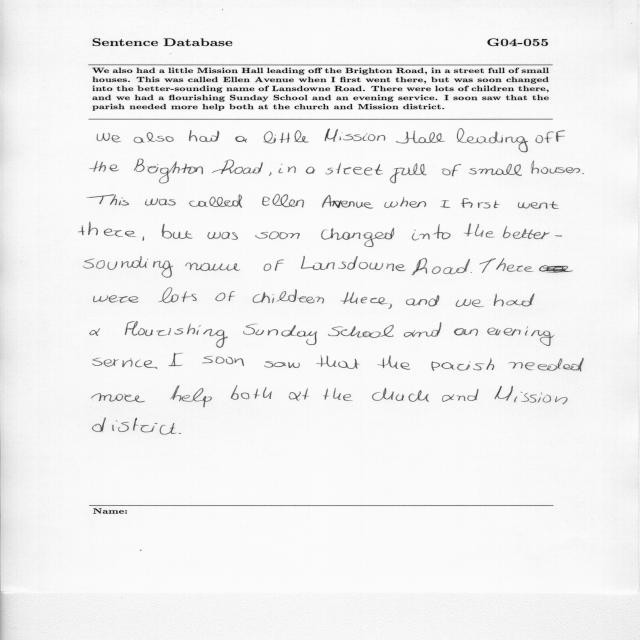word: (125, 321, 228, 348), (84, 256, 173, 278), (134, 159, 203, 184), (457, 129, 528, 153), (301, 256, 406, 271), (243, 324, 317, 345), (93, 418, 177, 435), (480, 258, 573, 273), (321, 228, 394, 247), (487, 326, 554, 346), (495, 386, 568, 404), (252, 289, 324, 304), (411, 258, 470, 275), (508, 358, 584, 371), (170, 386, 212, 408), (328, 325, 394, 338), (79, 222, 136, 237), (325, 128, 386, 142), (432, 358, 495, 371), (372, 388, 429, 402), (503, 226, 562, 239), (189, 194, 242, 208), (326, 163, 383, 176), (390, 164, 427, 184), (212, 160, 263, 174), (531, 160, 580, 174), (322, 195, 373, 208), (469, 164, 522, 176), (264, 130, 309, 144), (412, 224, 451, 240), (316, 355, 360, 369), (231, 385, 272, 400), (396, 131, 445, 143), (159, 288, 197, 303), (341, 292, 388, 304), (404, 323, 441, 338), (262, 194, 304, 207), (494, 294, 534, 307), (93, 358, 143, 368), (185, 262, 240, 271), (377, 355, 410, 370), (442, 389, 479, 402), (92, 394, 145, 403), (162, 224, 193, 239), (384, 197, 426, 208), (464, 223, 494, 238), (134, 132, 174, 143), (89, 195, 129, 206), (461, 198, 500, 209), (202, 356, 244, 366), (406, 295, 439, 307), (323, 388, 353, 401), (536, 131, 565, 144), (189, 130, 219, 142), (255, 232, 300, 240), (94, 295, 139, 303), (89, 161, 119, 172), (518, 201, 559, 209), (289, 388, 309, 401), (264, 361, 300, 368), (145, 198, 176, 206), (207, 232, 238, 240), (264, 259, 284, 271), (442, 164, 461, 176), (456, 299, 484, 307), (97, 133, 121, 142), (215, 291, 235, 301), (454, 328, 478, 336), (169, 353, 183, 366), (278, 164, 296, 173), (144, 360, 157, 369), (440, 200, 450, 208), (90, 328, 100, 336), (235, 136, 247, 142), (306, 167, 315, 174), (388, 304, 392, 309), (269, 172, 272, 176), (143, 237, 144, 241), (179, 433, 181, 434), (583, 173, 584, 174), (471, 272, 472, 273)
